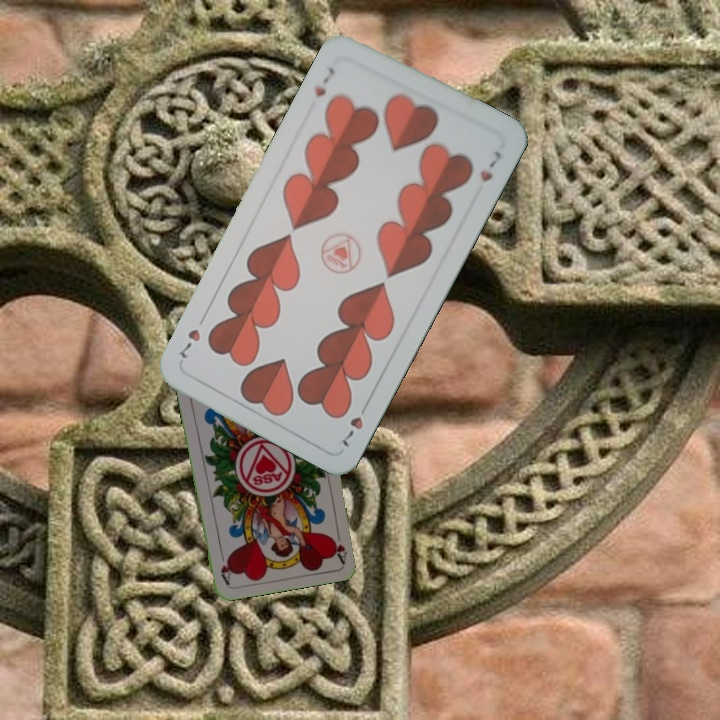H7: (338, 397, 370, 450), (310, 63, 338, 99)
HA: (327, 524, 350, 565)
